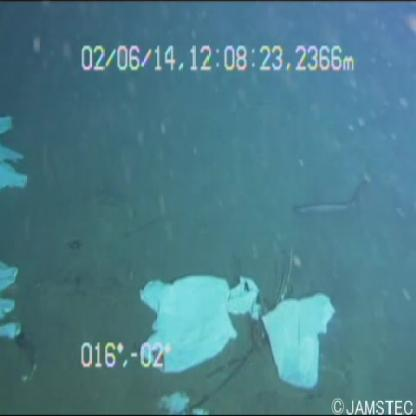Rác: (126, 259, 260, 370), (261, 269, 335, 394), (1, 250, 32, 346), (1, 110, 29, 192)
